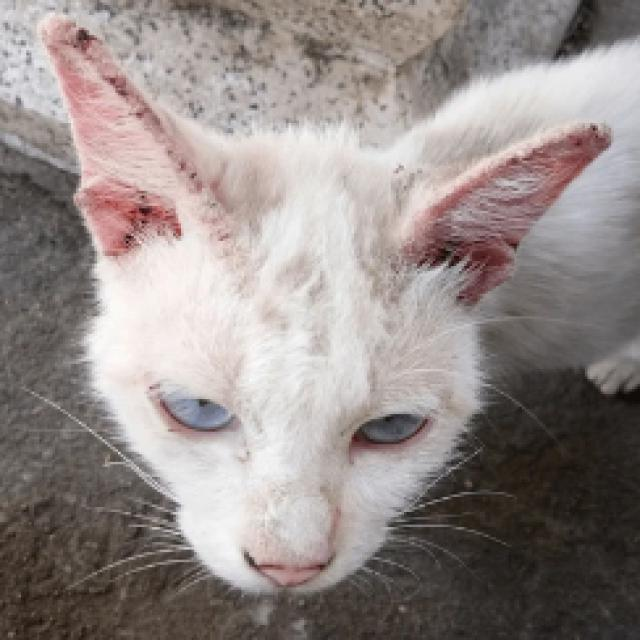Mange: (52, 14, 110, 56), (427, 236, 452, 266), (584, 112, 614, 136), (132, 198, 160, 222), (564, 130, 590, 152), (96, 68, 124, 86), (168, 153, 192, 174), (112, 233, 142, 248), (187, 162, 204, 186), (501, 238, 530, 252), (126, 105, 154, 118), (128, 100, 142, 126), (115, 84, 130, 100), (135, 185, 151, 200), (102, 191, 106, 211)
